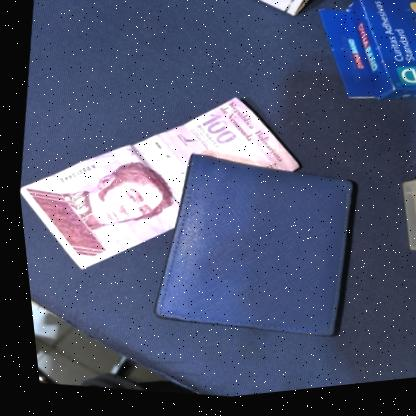one_hundred-front-vef: (7, 59, 316, 312)
